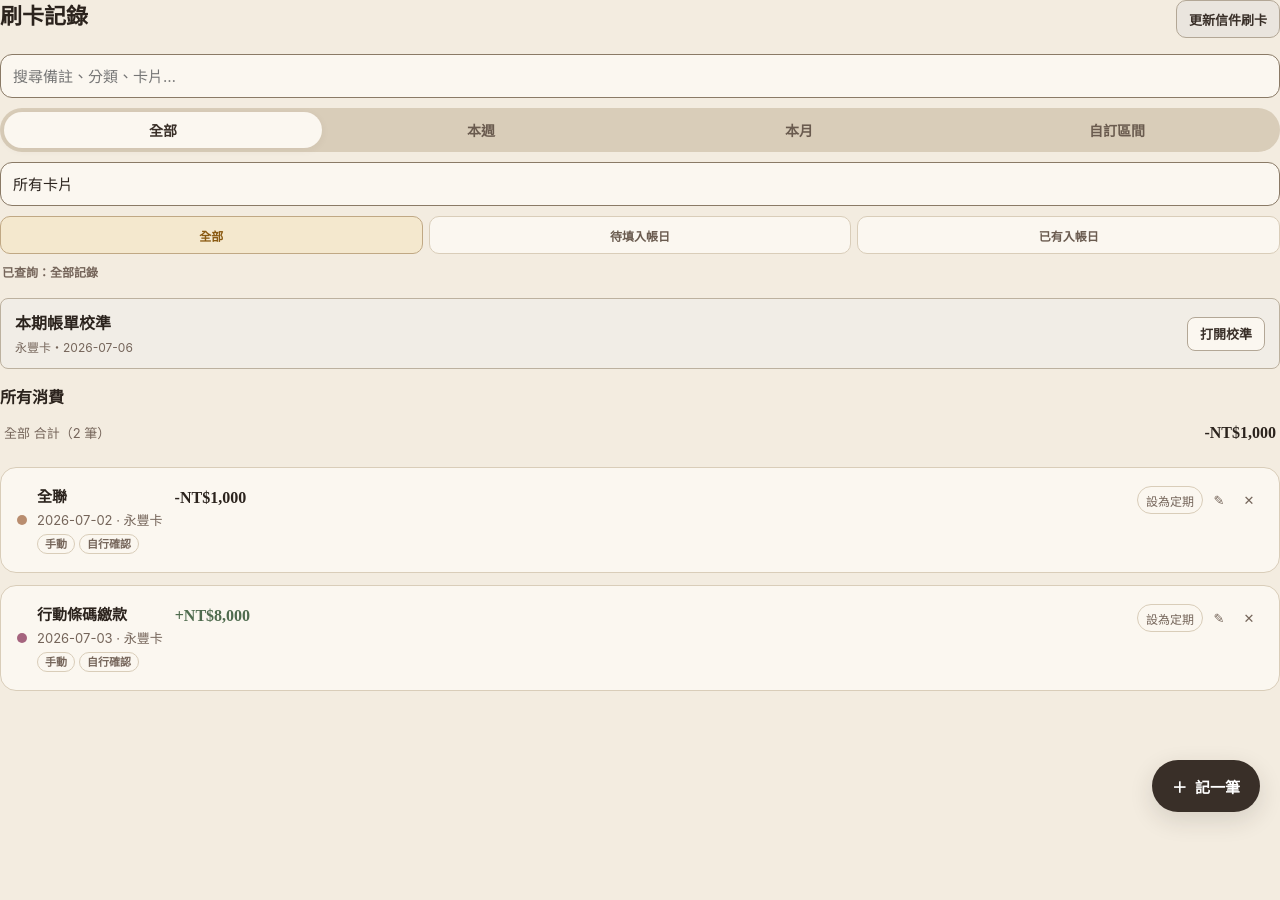
Transactions import entry › lists the transactions behind the estimate, and what the cycle left out
Click the button "打開校準" at (1226, 334), box [1187, 317, 1265, 351]
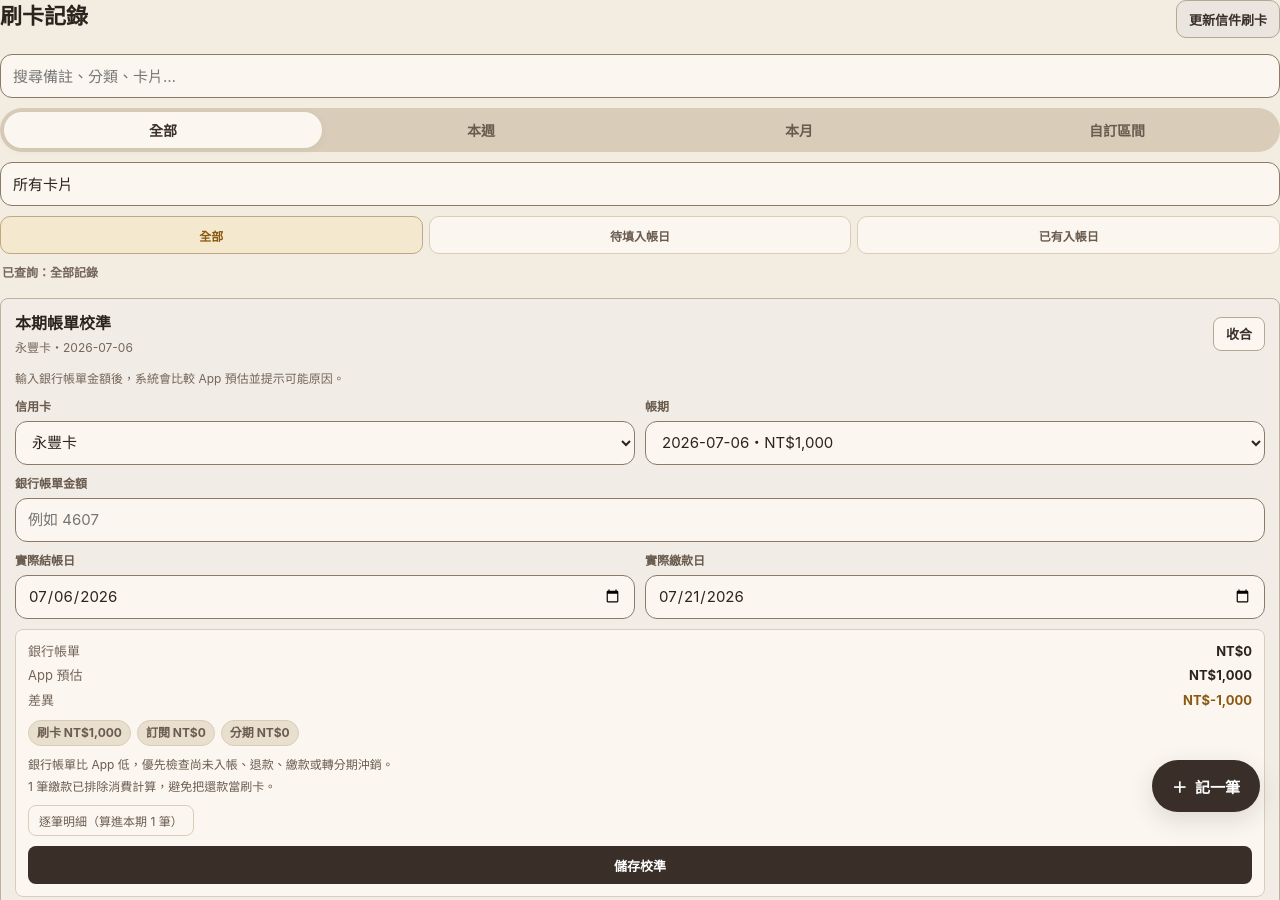
Type "1000" into the number field with placeholder "例如 4607" at (640, 520), box [15, 498, 1265, 542]
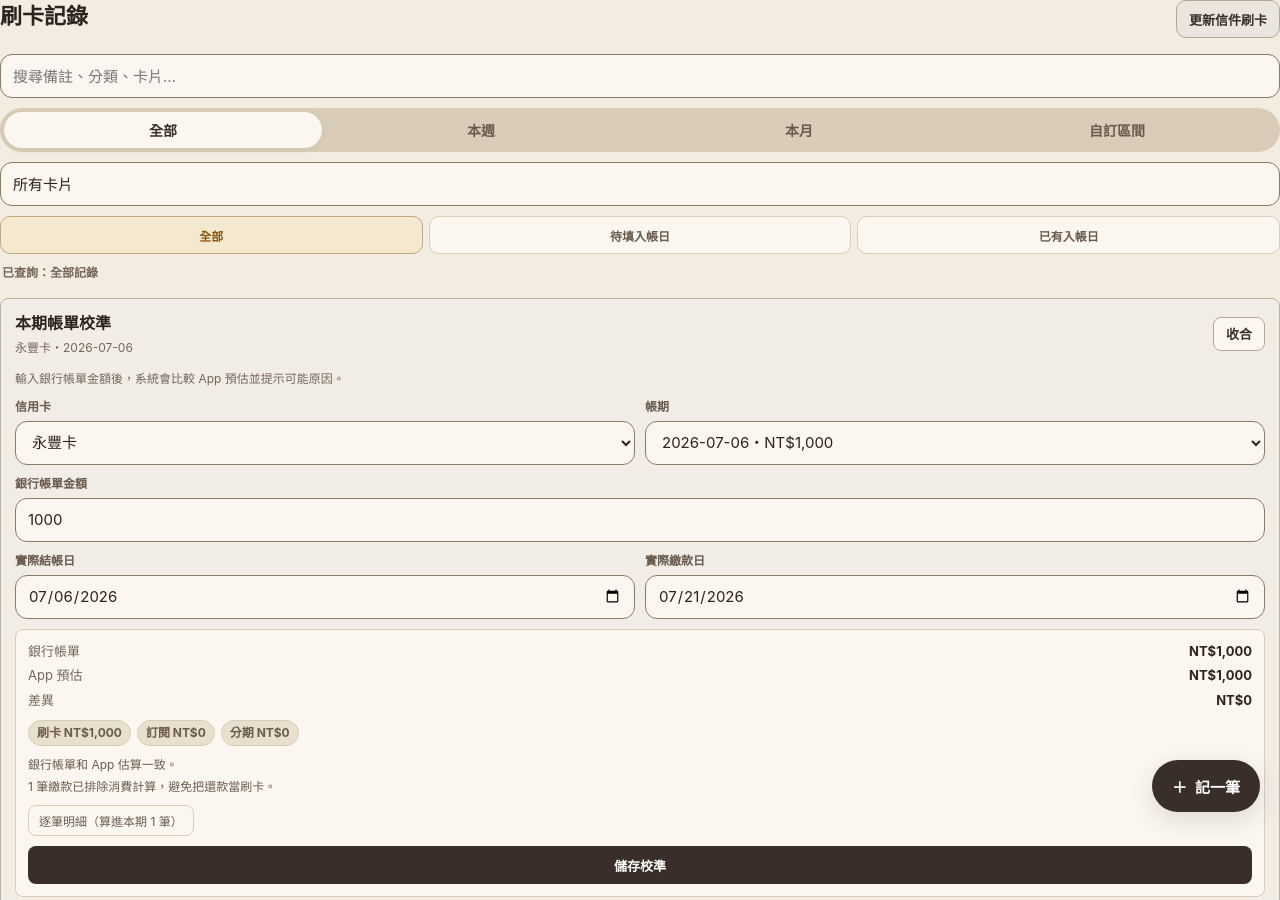
Click the button "逐筆明細（算進本期 1 筆）" at (111, 821), box [28, 805, 194, 836]
(page scrolled)
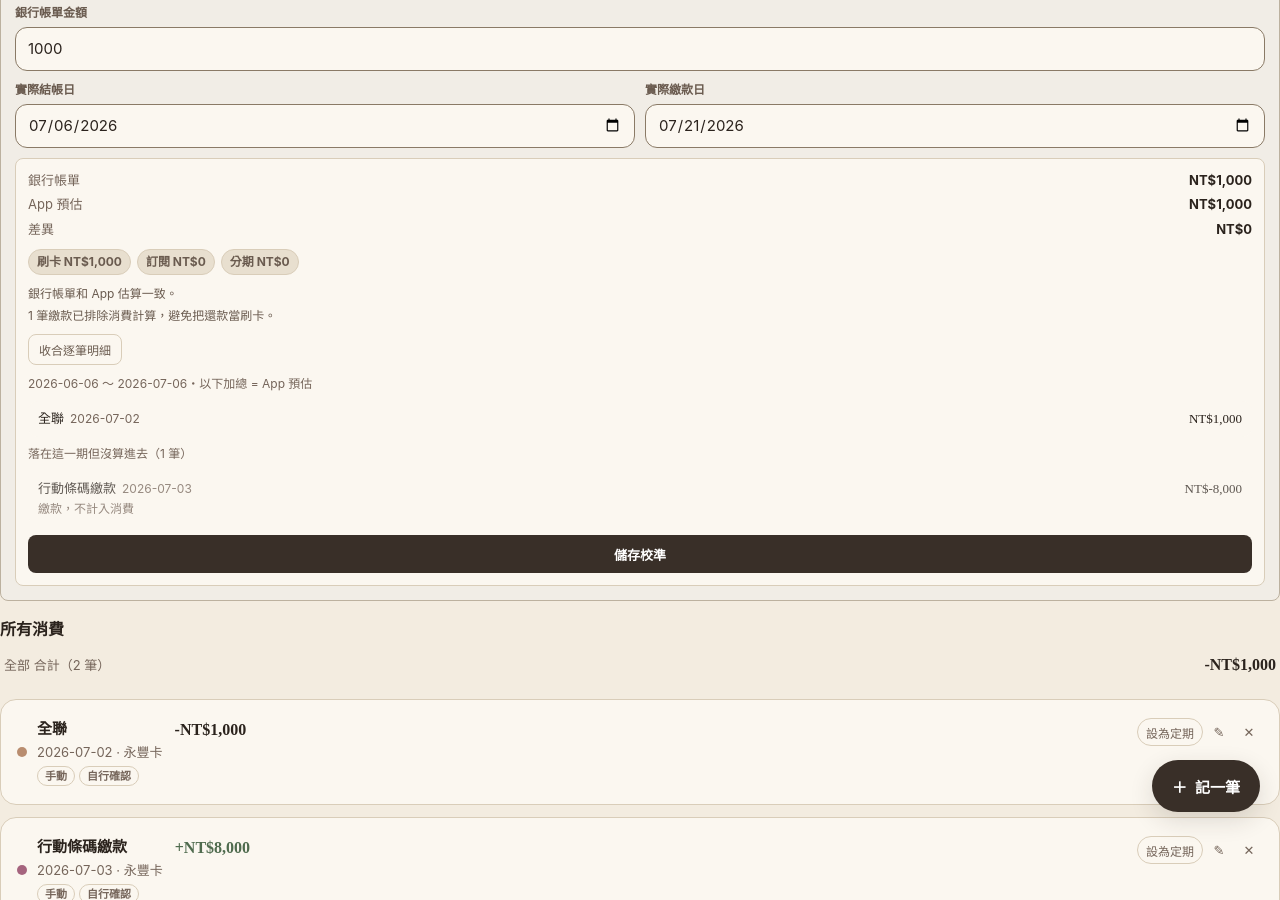
Now the element with class "tx-statement-detail" shows "全聯", box [38, 410, 64, 426]
Now the element with class "tx-statement-detail" shows "NT$1,000", box [28, 375, 1252, 526]
Now the element with class "tx-statement-detail" shows "行動條碼繳款", box [38, 480, 116, 496]
